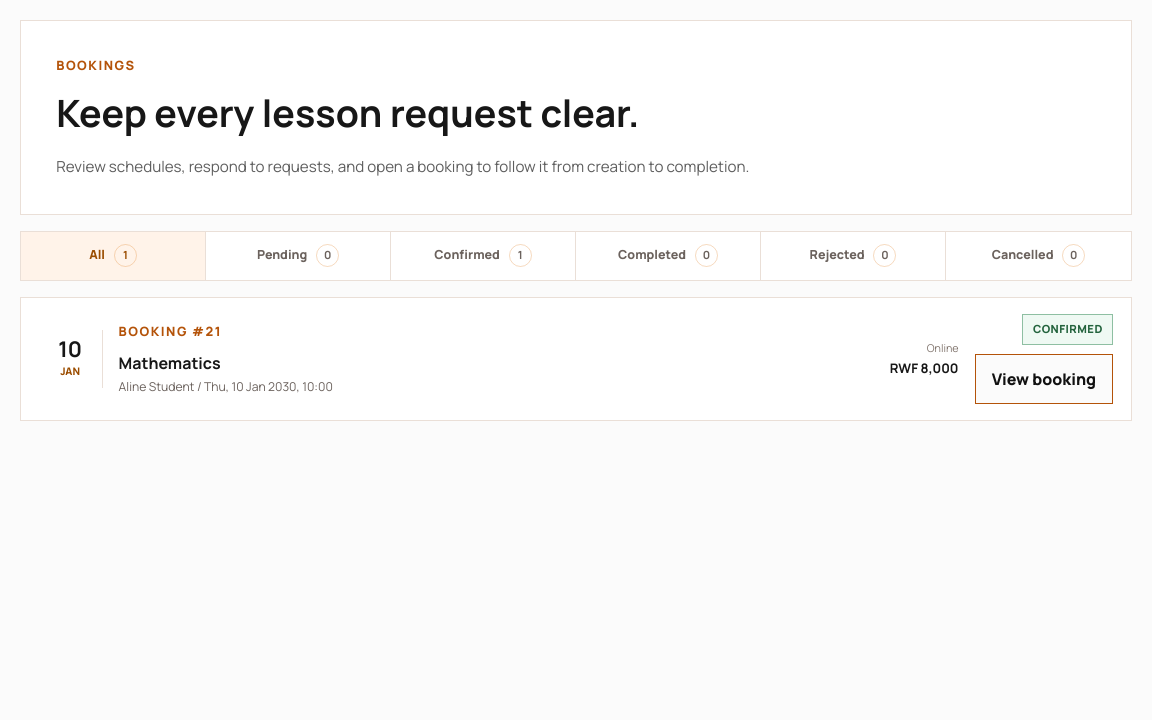
Test: BookingsPage progress › shows a compact list before opening the full booking workspace
Expected: the button "Add progress" is not shown
Click the link "View booking". click: (1044, 379)
box: [974,354,1113,404]
(page scrolled)
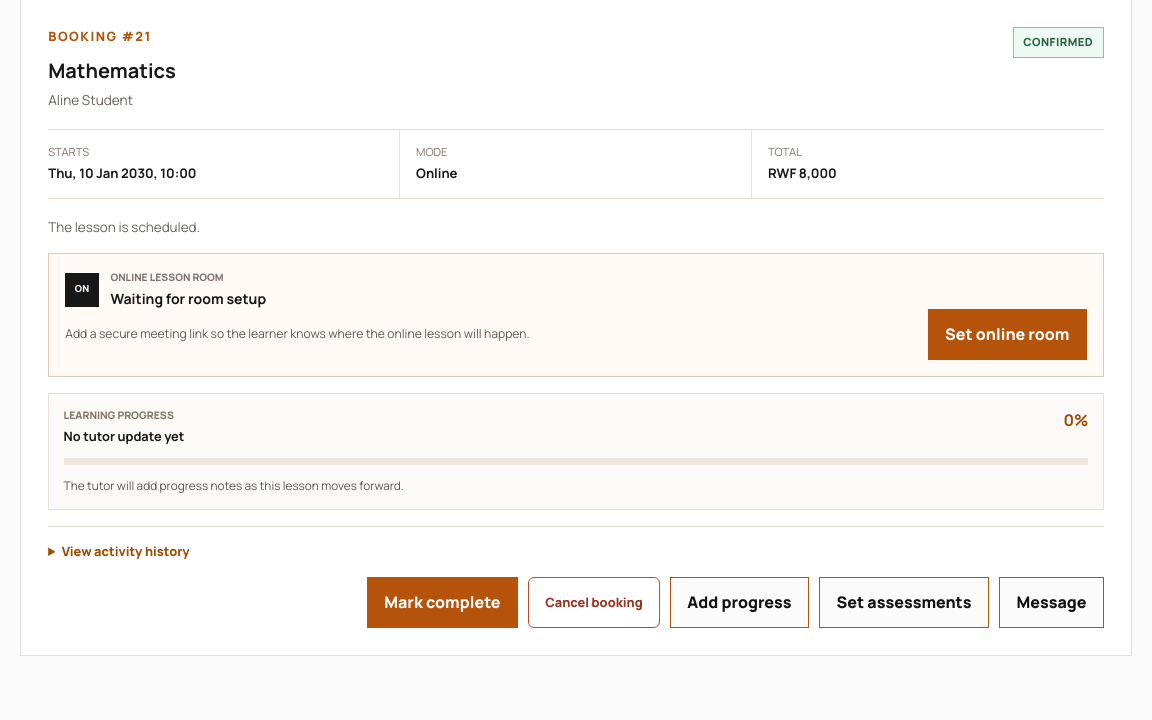
Now the button "Add progress" is shown, box [670,577,809,628]
